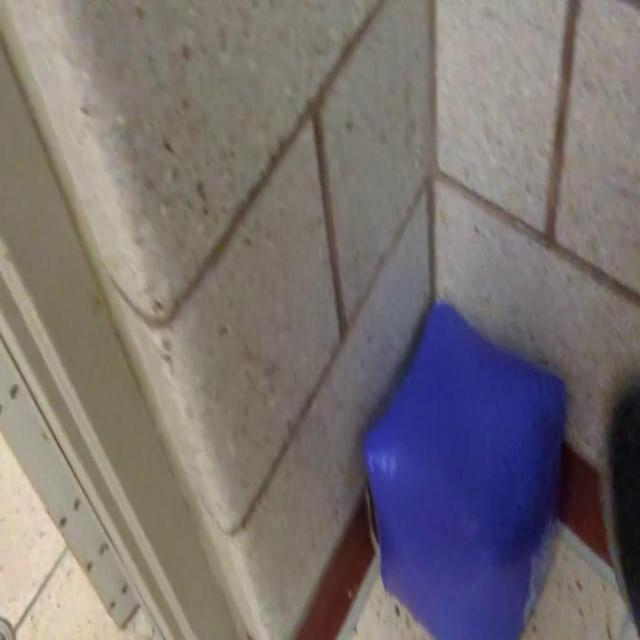frc_cube: (361, 299, 562, 640)
